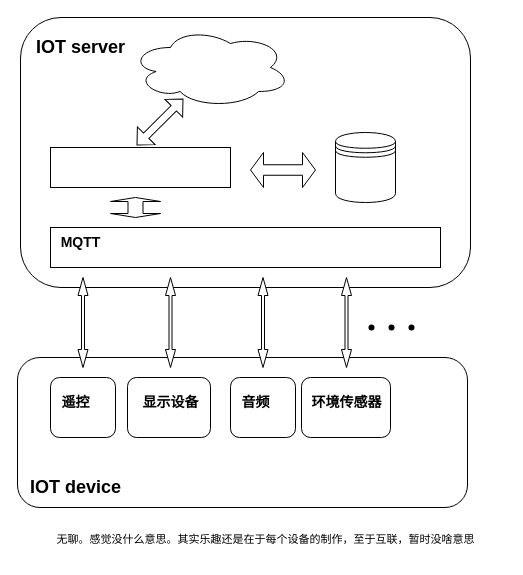
This 523x575 diagram has some shape labels left out. Here are the shapes that lost their labels. From the top down, the box of each, then its label:
(130, 26, 290, 108): Internet、Blog
(50, 146, 230, 188): Main Server
(334, 132, 396, 202): Database
